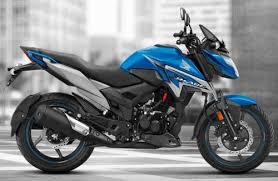motorcycle: (8, 6, 272, 177)
